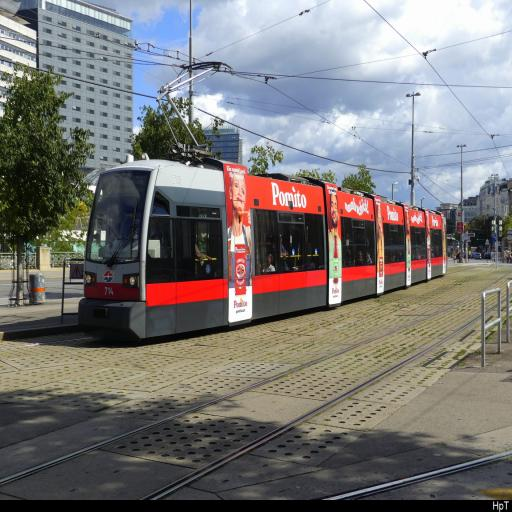ULF: (78, 160, 447, 345)
